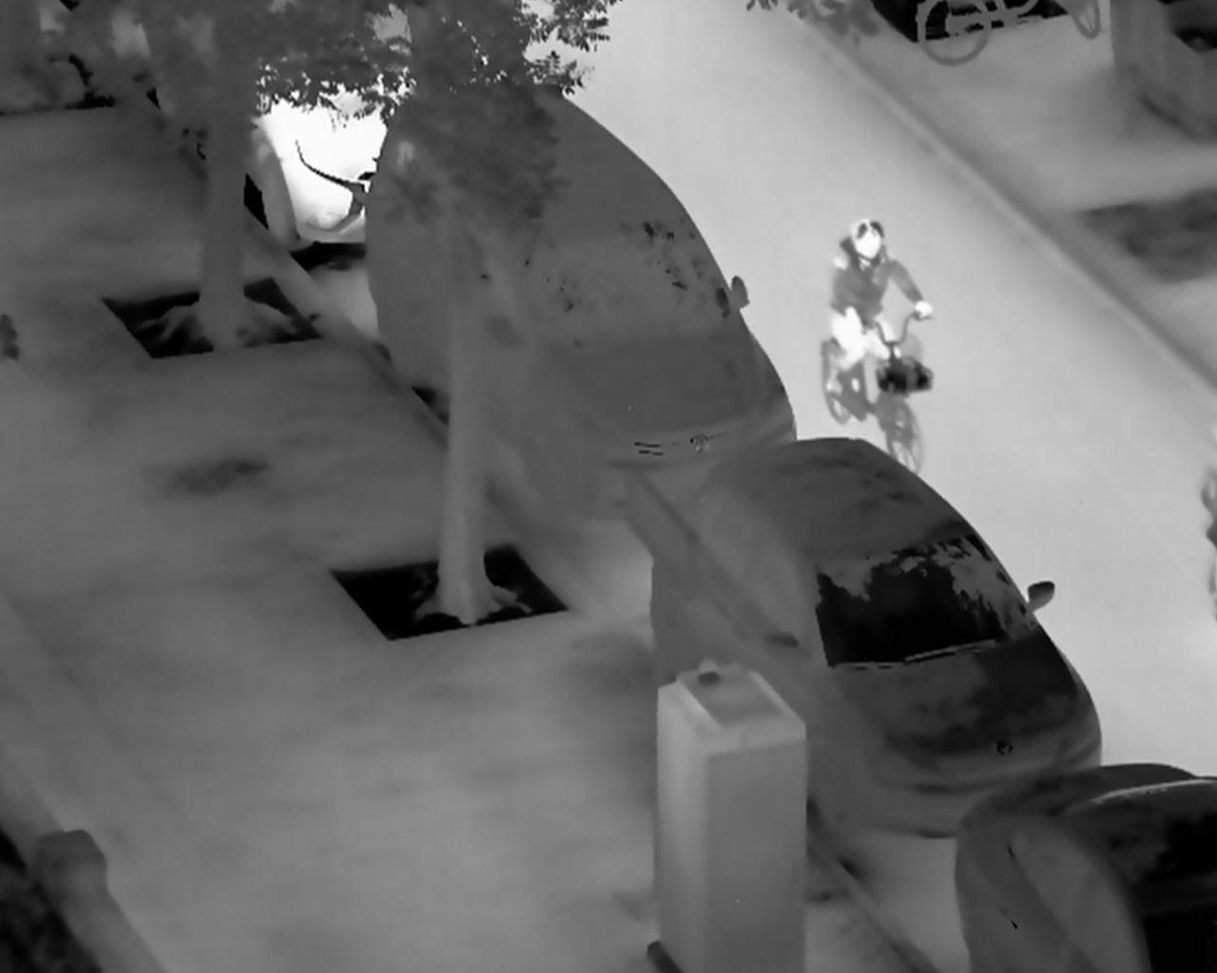person: (822, 217, 937, 394)
